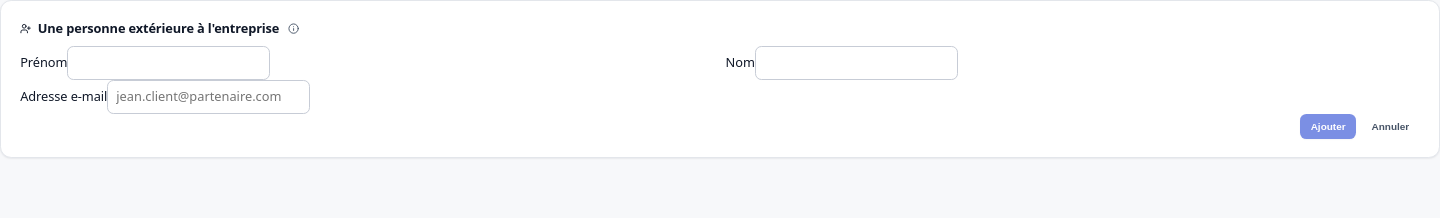
Scenario: people from outside the company › says why when the server refuses
This screenshot has width=1440, height=218.
In the field labelled "Adresse e-mail": (209, 97) [107, 80, 310, 114], type "x@y.fr"
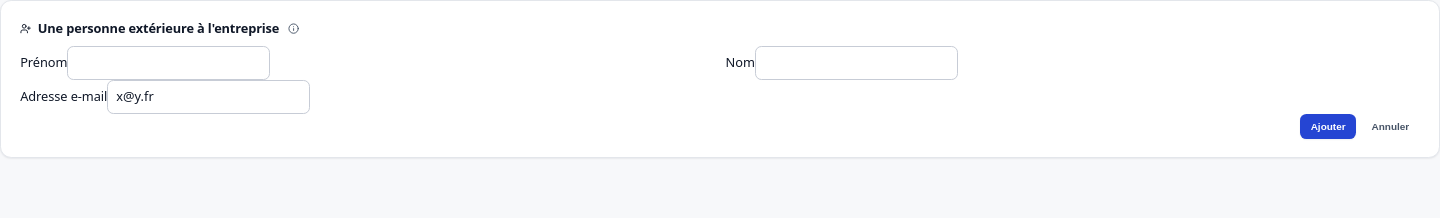
Click the button "Ajouter": click(1328, 126) [1300, 114, 1356, 139]
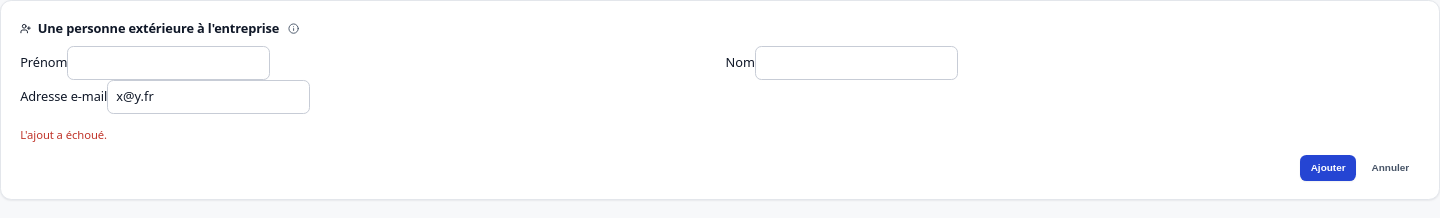
Result: the message reads "L'ajout a échoué." at [20, 127, 107, 142]
